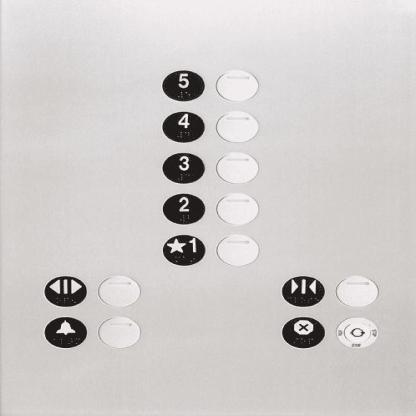2: (161, 192, 206, 225)
3: (161, 152, 205, 182)
4: (160, 110, 205, 142)
5: (161, 68, 205, 100)
alarm: (43, 316, 87, 348)
bt_keyhole: (335, 315, 378, 349)
close: (281, 275, 325, 307)
empty: (214, 192, 259, 226), (214, 110, 260, 143), (335, 274, 378, 308), (95, 275, 142, 306), (96, 316, 140, 349), (215, 150, 259, 183), (214, 70, 259, 102), (214, 234, 260, 265)
open: (42, 275, 87, 306)
s1: (162, 234, 205, 265)
stop: (279, 315, 325, 348)
